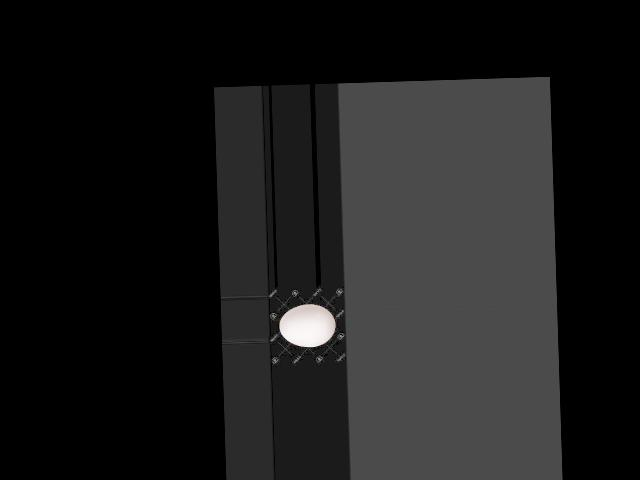egg: (279, 304, 335, 348)
